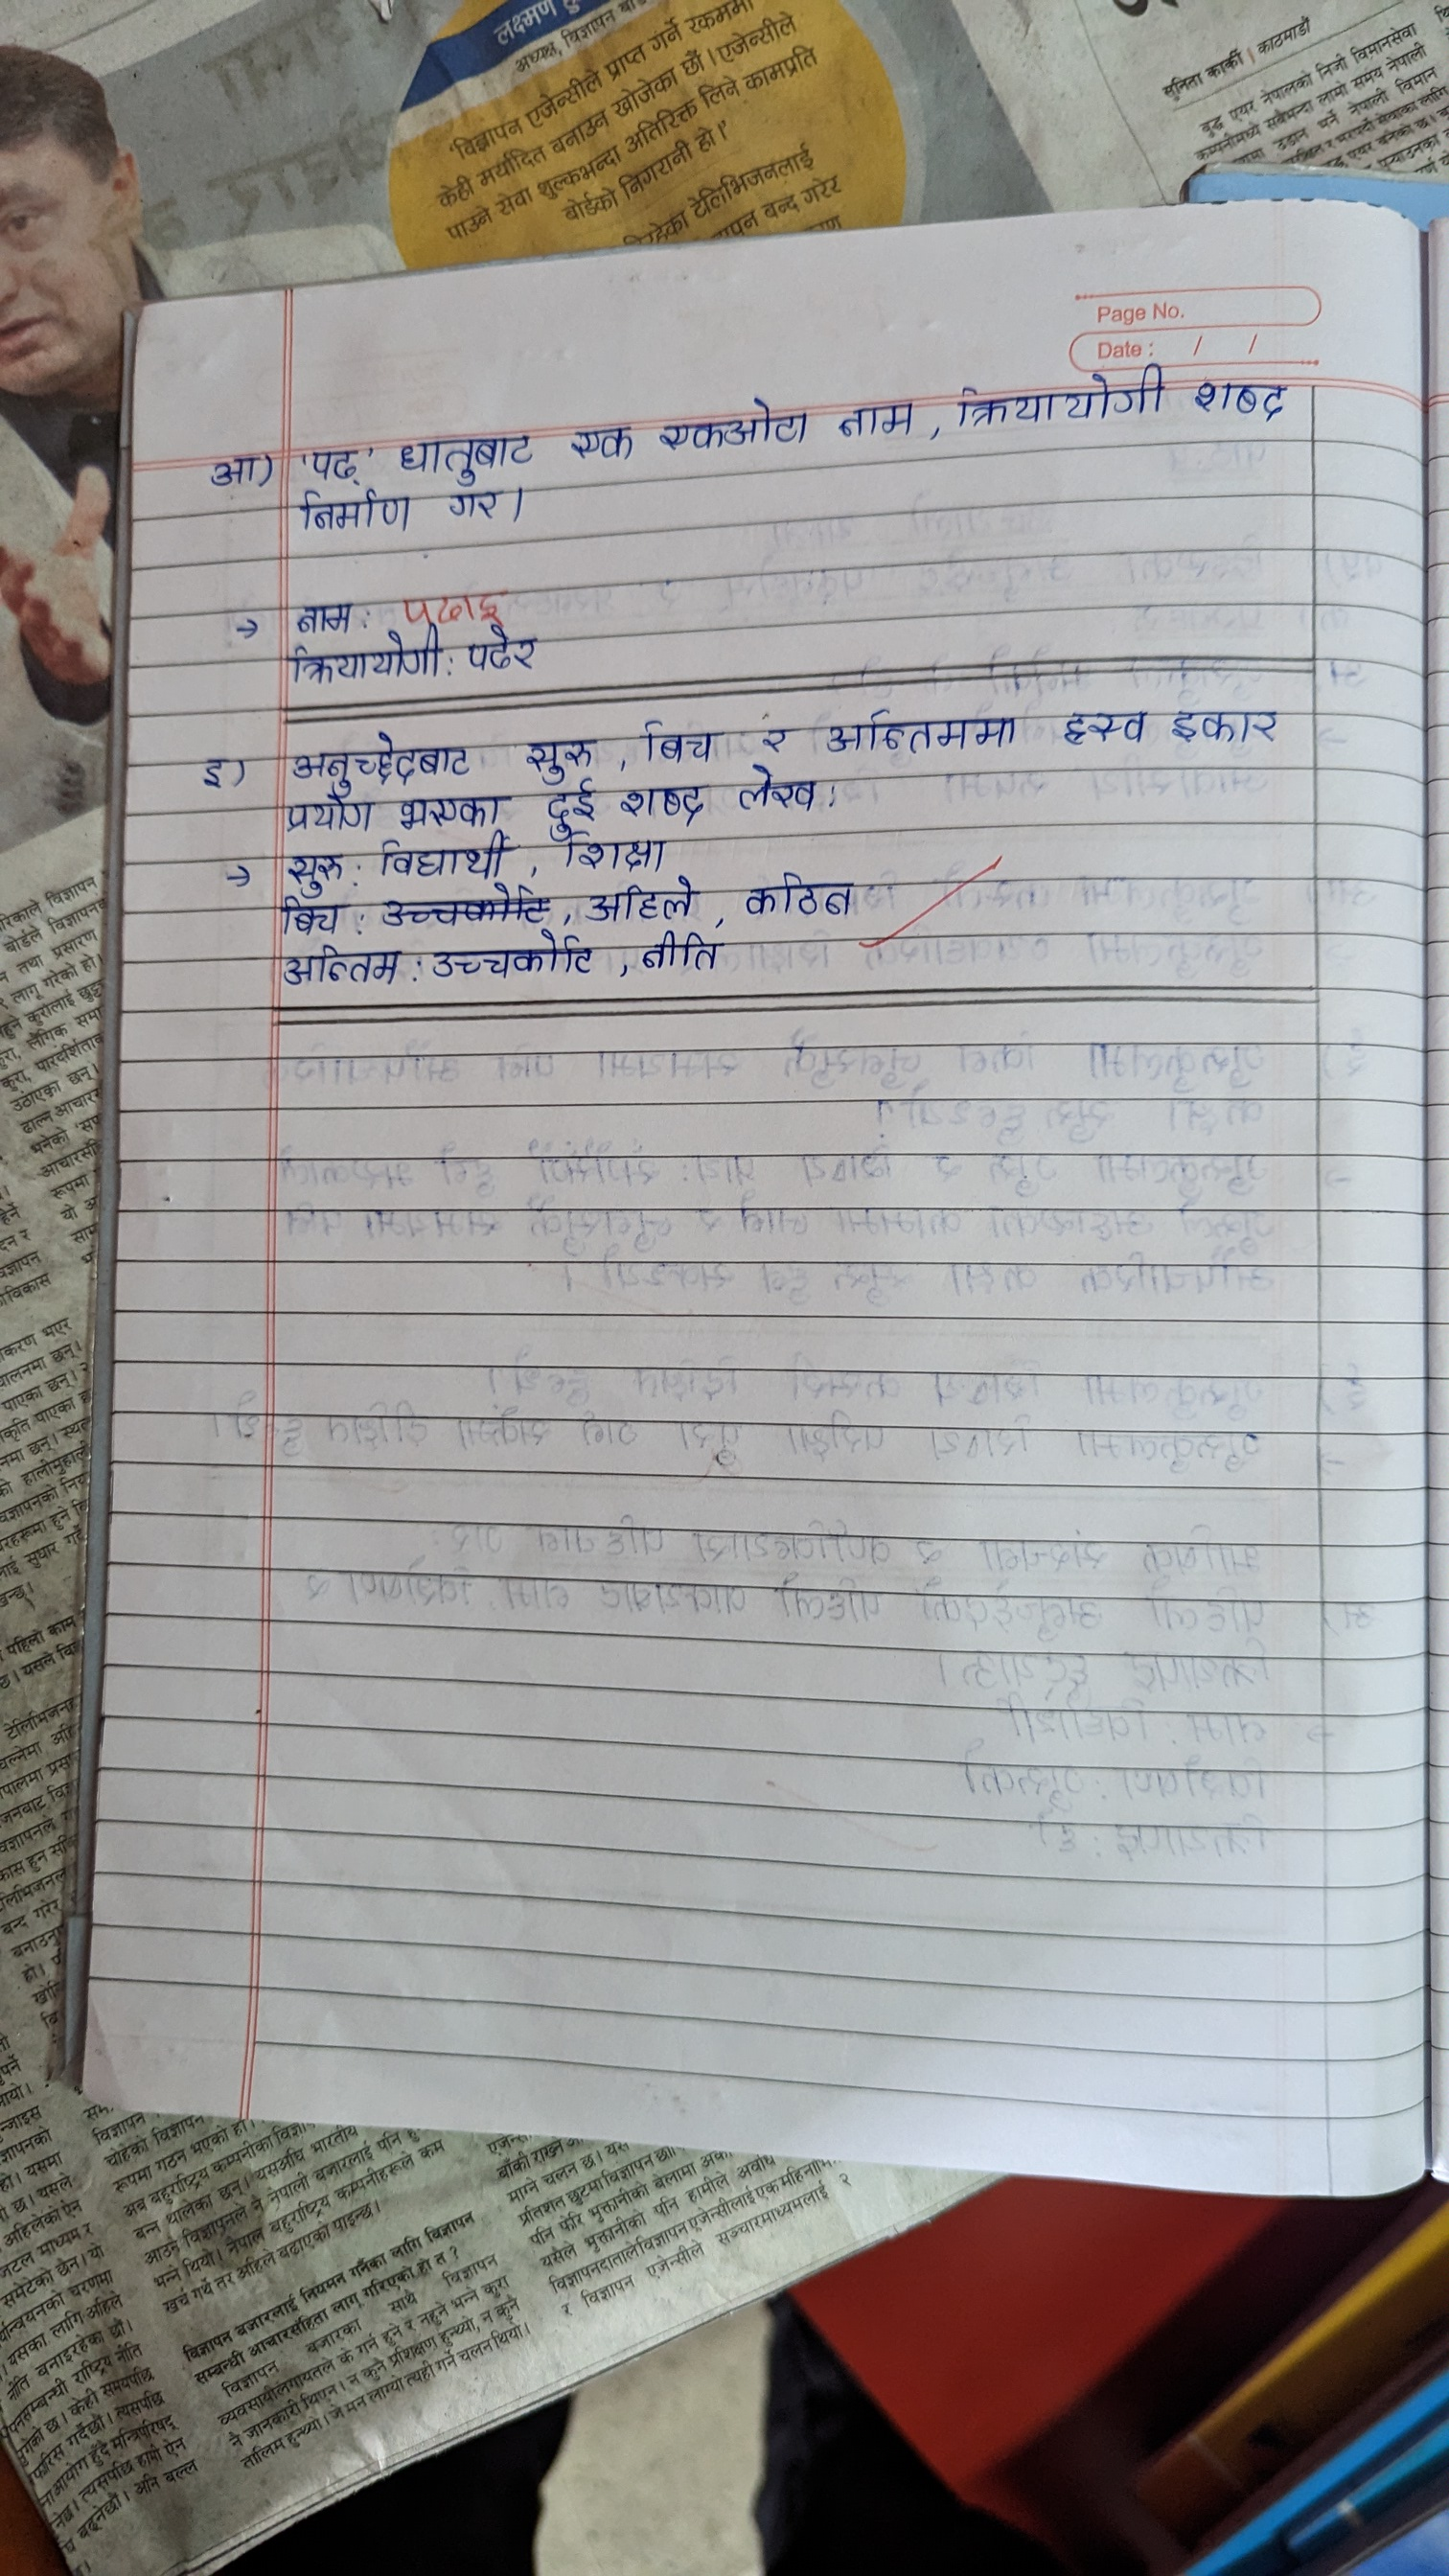text: (939, 364, 1168, 428), (283, 725, 481, 789), (826, 704, 1024, 768), (430, 929, 600, 991), (655, 396, 812, 458), (280, 637, 442, 688), (274, 941, 416, 996), (1166, 701, 1295, 755), (738, 869, 865, 924), (398, 430, 533, 481), (379, 833, 513, 881), (568, 876, 695, 924), (626, 929, 727, 984), (295, 488, 418, 533), (380, 791, 508, 832), (563, 833, 692, 872), (1054, 701, 1148, 754), (511, 732, 603, 786), (396, 584, 515, 625), (731, 766, 823, 817), (630, 717, 722, 768), (619, 778, 720, 824), (283, 791, 373, 842), (465, 630, 561, 676), (1192, 375, 1290, 419), (278, 589, 363, 639), (265, 897, 352, 938), (839, 402, 920, 441), (441, 487, 522, 525), (283, 849, 350, 895), (747, 711, 814, 757), (182, 754, 249, 800), (566, 425, 635, 464), (209, 451, 260, 487), (306, 446, 357, 481)
